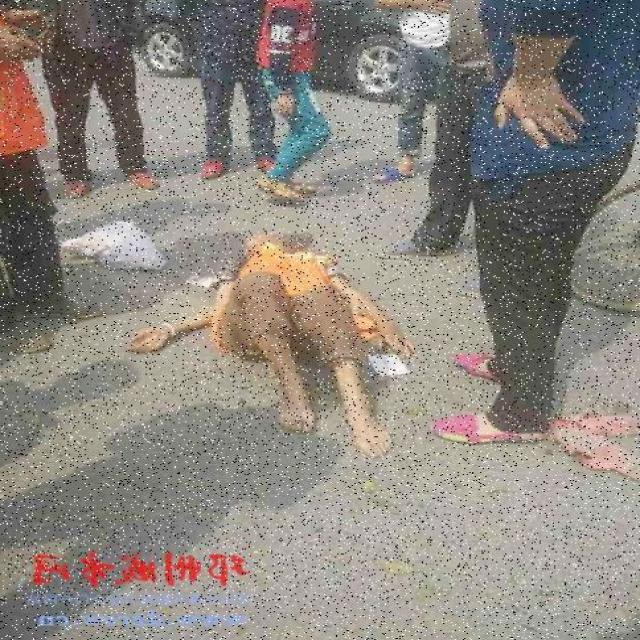fall: (154, 226, 412, 454)
